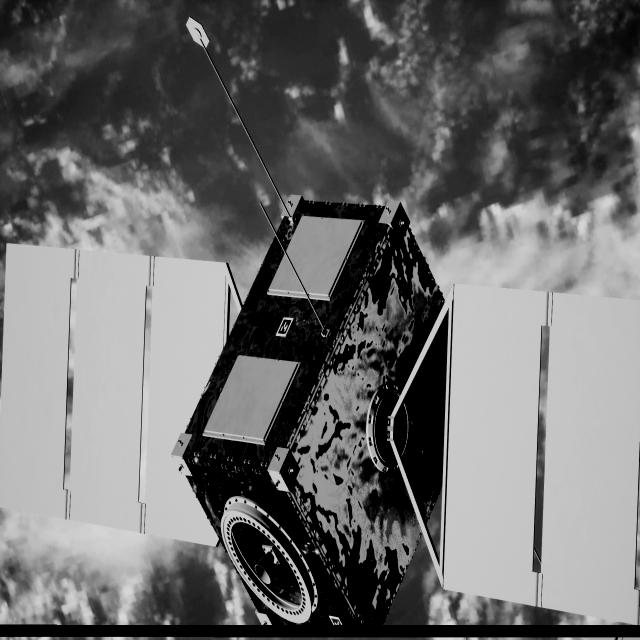satellite: (0, 197, 640, 631)
